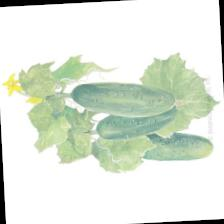cucumber: (68, 78, 176, 120), (94, 102, 180, 140), (129, 126, 215, 162)
